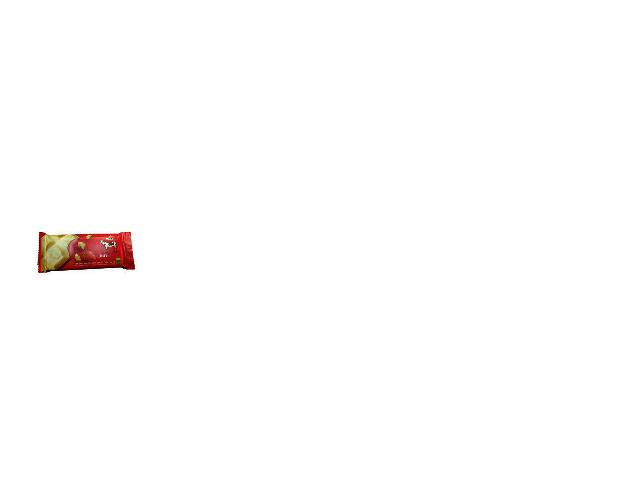chocolate: (37, 229, 141, 279)
